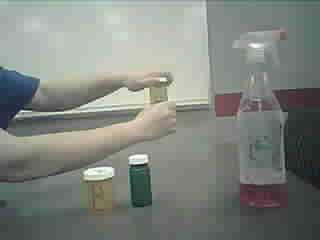Bottle A: (142, 68, 179, 136)
Bottle B: (79, 159, 122, 221)
Bottle C: (125, 153, 159, 214)
hazard: (227, 27, 298, 219)
